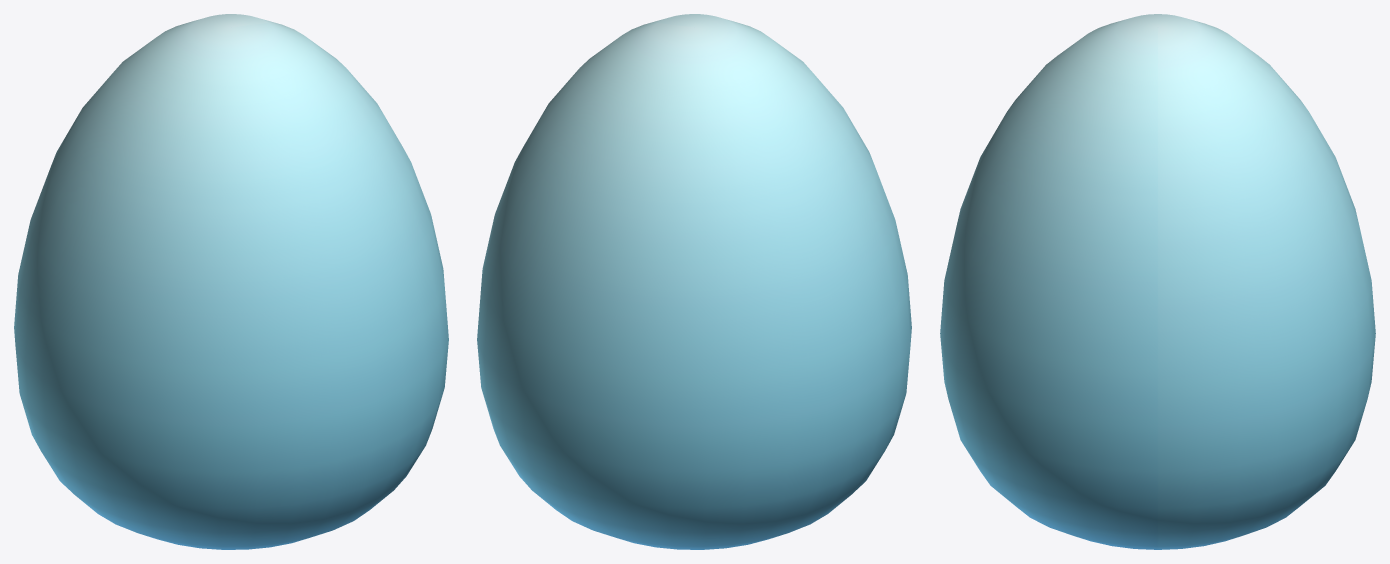
The model's file is egg.fbx.
3 renders of one model, left to right at view 1: azimuth 30°, elevation 25°; view 2: azimuth 150°, elevation 25°; view 3: azimuth 270°, elevation 25°, orthographic.
Parts seen in each view (by area): view 1: 球.002; view 2: 球.002; view 3: 球.002.
Boxes of the visible parts, x1=… form: 球.002: x1=14, y1=14, x2=448, y2=549; 球.002: x1=477, y1=14, x2=911, y2=549; 球.002: x1=940, y1=14, x2=1375, y2=549.
Size of the model in its own units: 36.05 by 44.59 by 36.05.
